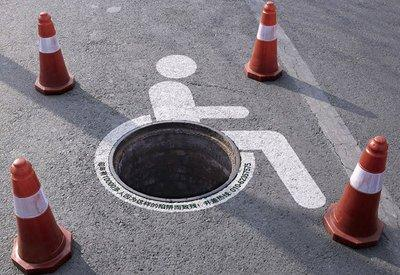wellcover: (90, 120, 252, 204)
